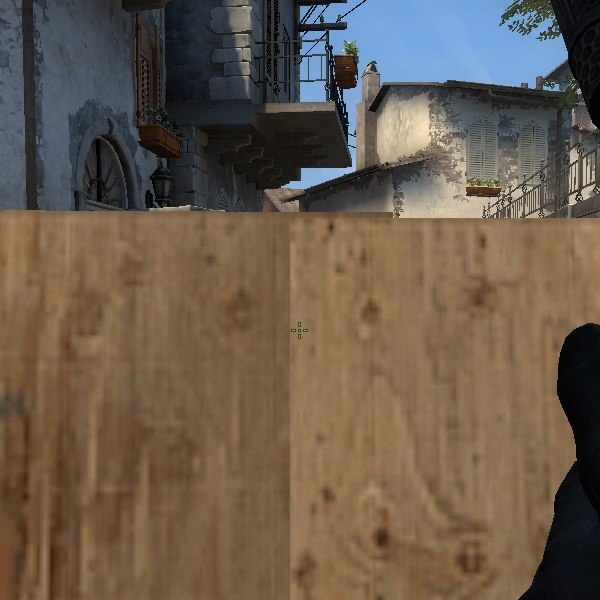t_body: (141, 103, 183, 215)
